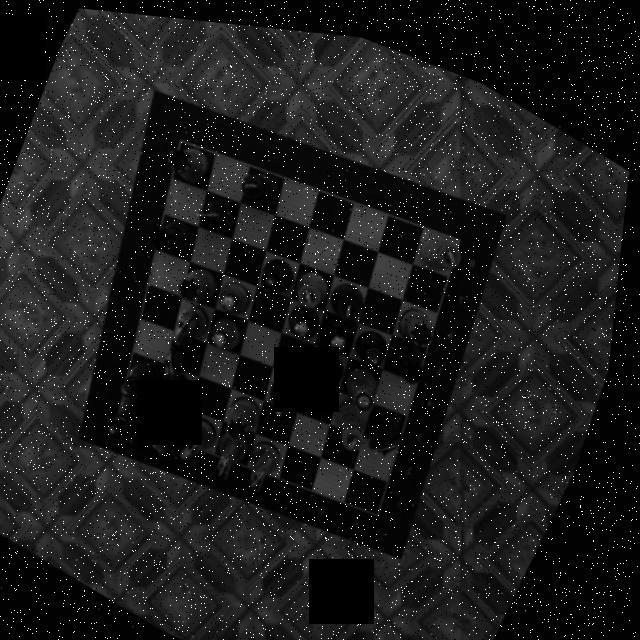chess-table-corners: (106, 400, 142, 440), (446, 213, 482, 248), (174, 130, 197, 159), (379, 497, 398, 518)
